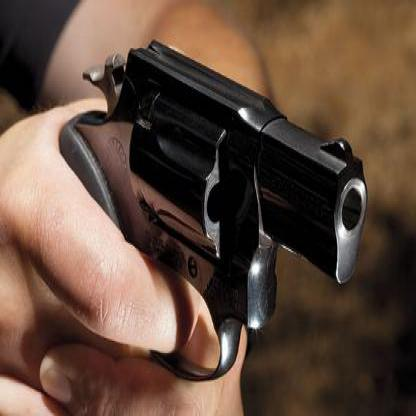pistol: (49, 33, 367, 380)
